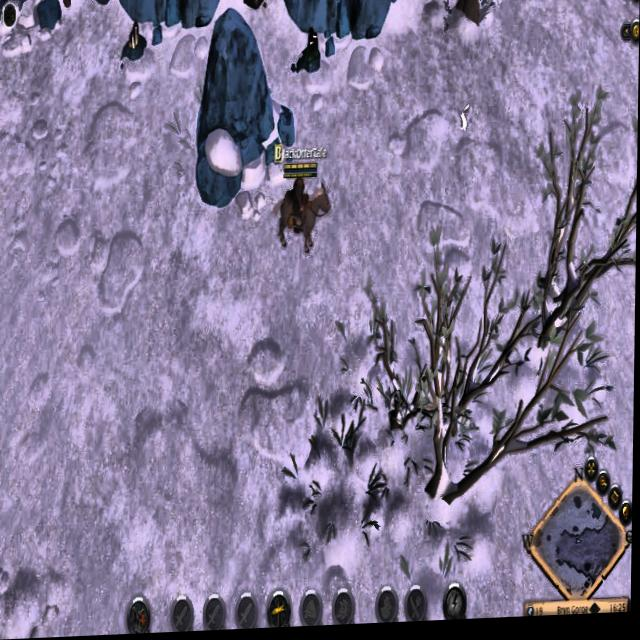copperore: (119, 16, 147, 66)
limestone: (242, 0, 272, 14)
tinore: (296, 26, 324, 82)
